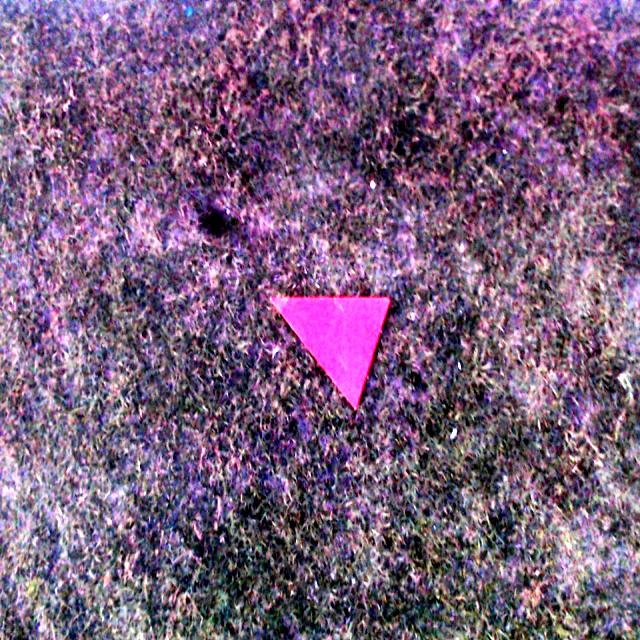red_triangle: (270, 294, 391, 412)
